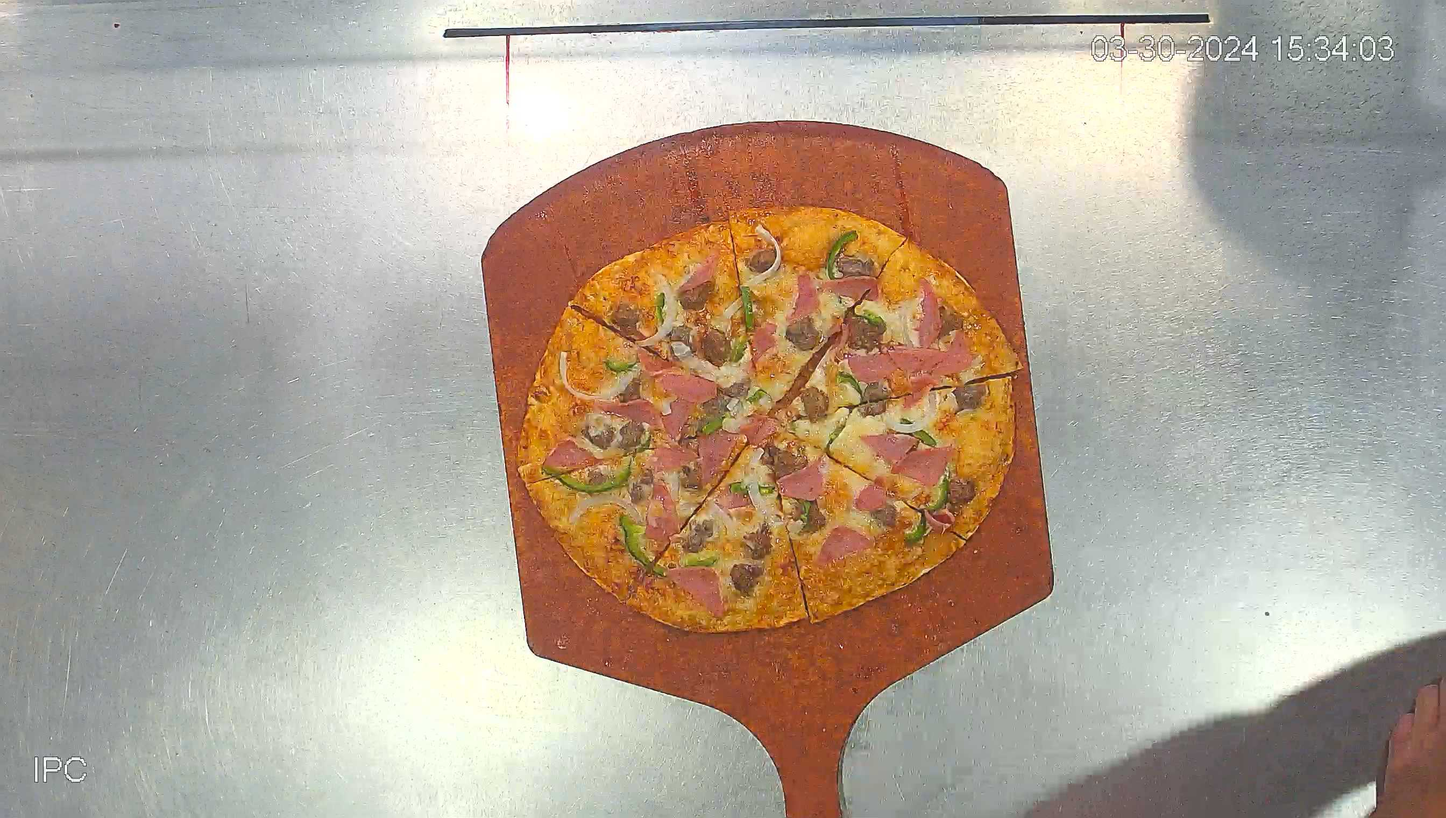hawaiian: (515, 205, 1020, 632)
